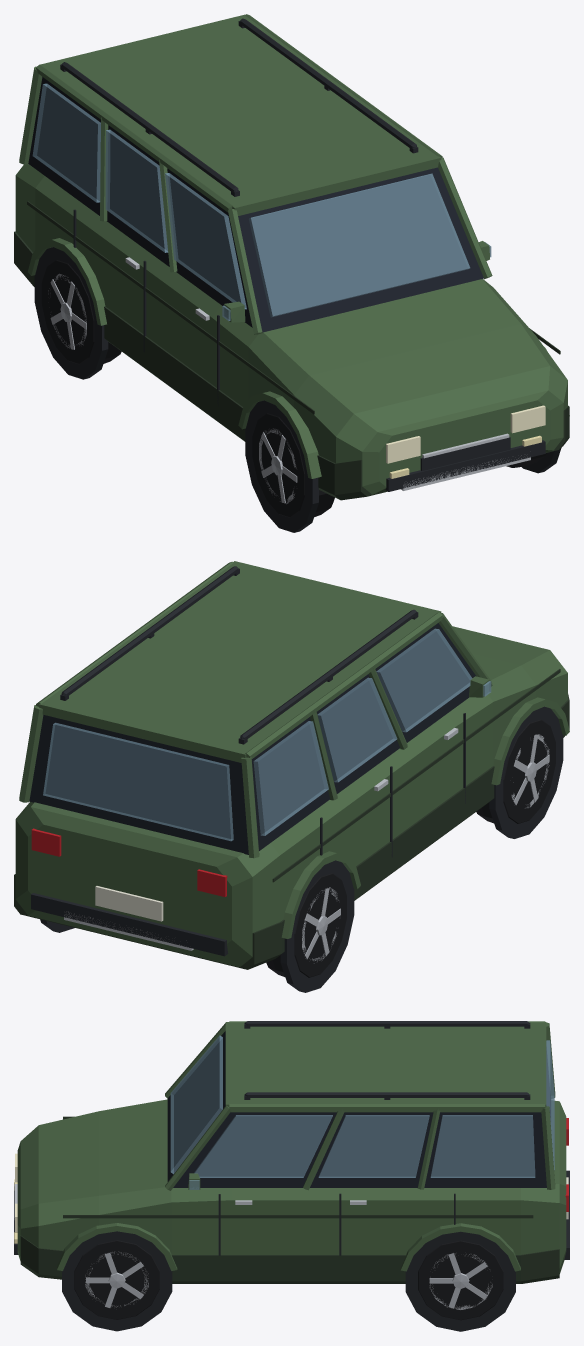
File: CAR_03.obj
3 views of the same model, one above another, from view 1: azimuth 30°, elevation 25°; view 2: azimuth 150°, elevation 25°; view 3: azimuth 270°, elevation 25° (orthographic). The views are drawn at different scales.
Visible parts, largest first — view 1: cabin, body, glass, wheel_FL, wheel_RL, wheel_FL_arch, wheel_RL_arch, fascia, roof_rails, body_detail, lights, underguard; view 2: cabin, body, glass, fascia, wheel_RL, wheel_FL, wheel_RL_arch, wheel_FL_arch, roof_rails, body_detail, lights, underguard; view 3: cabin, body, glass, wheel_FR, wheel_RR, wheel_FR_arch, wheel_RR_arch, roof_rails, body_detail, fascia.
Part boxes in pixels (box(x1,y1,x2,y2)): cabin: box(19, 14, 492, 334); body: box(14, 164, 569, 500); glass: box(32, 83, 470, 317); wheel_FL: box(252, 413, 334, 517); wheel_RL: box(41, 259, 121, 364); wheel_FL_arch: box(238, 391, 321, 532); wheel_RL_arch: box(28, 238, 108, 379); fascia: box(385, 433, 545, 491); roof_rails: box(60, 18, 418, 196); body_detail: box(27, 201, 560, 414); lights: box(386, 405, 545, 463); underguard: box(401, 455, 530, 490); cabin: box(19, 561, 492, 858); body: box(14, 626, 569, 969); glass: box(43, 628, 472, 841); fascia: box(31, 886, 228, 956); wheel_RL: box(266, 873, 346, 977); wheel_FL: box(476, 719, 555, 823); wheel_RL_arch: box(280, 851, 360, 992); wheel_FL_arch: box(489, 697, 569, 838); roof_rails: box(60, 566, 418, 744); body_detail: box(272, 669, 560, 882); lights: box(31, 828, 227, 896); underguard: box(64, 911, 193, 950); cabin: box(165, 1021, 555, 1190); body: box(17, 1099, 566, 1283); glass: box(170, 1035, 554, 1177); wheel_FR: box(74, 1240, 159, 1319); wheel_RR: box(418, 1240, 503, 1320); wheel_FR_arch: box(57, 1223, 177, 1331); wheel_RR_arch: box(400, 1223, 520, 1331); roof_rails: box(244, 1021, 530, 1099); body_detail: box(63, 1116, 533, 1255); fascia: box(14, 1170, 569, 1259).
Size of the model in its own units: 2.06 by 2.06 by 4.61.
